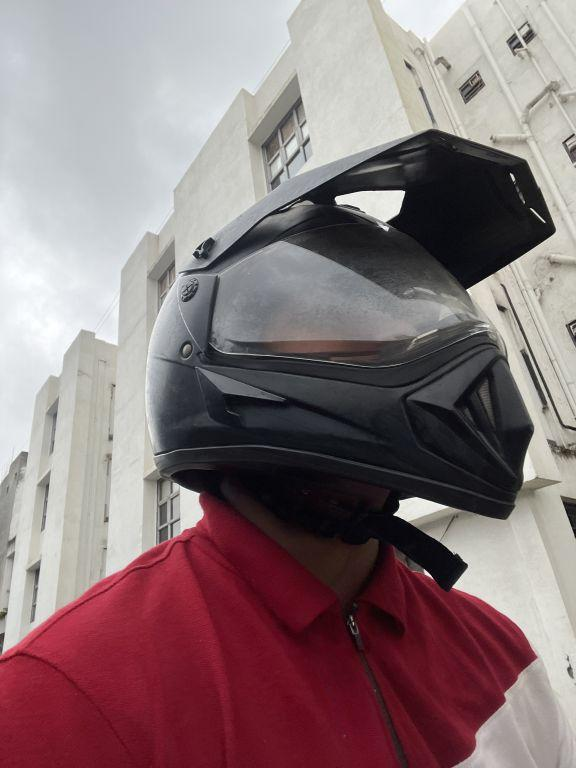helmet: (139, 117, 576, 550)
